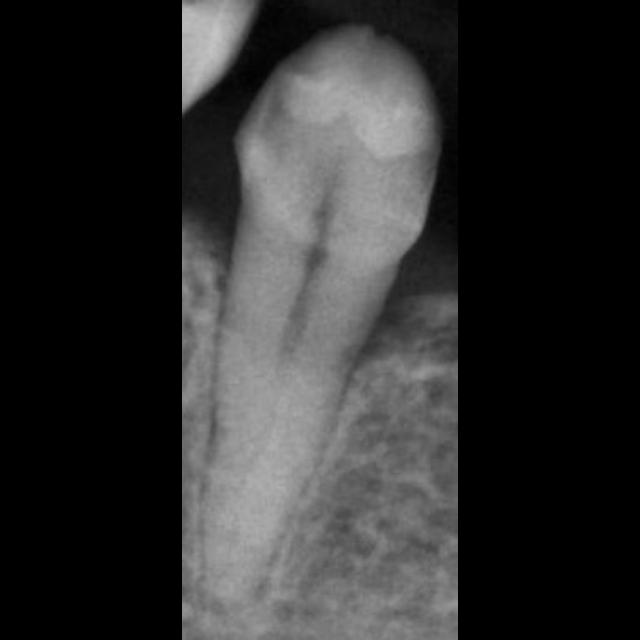tooth: (206, 29, 438, 608)
